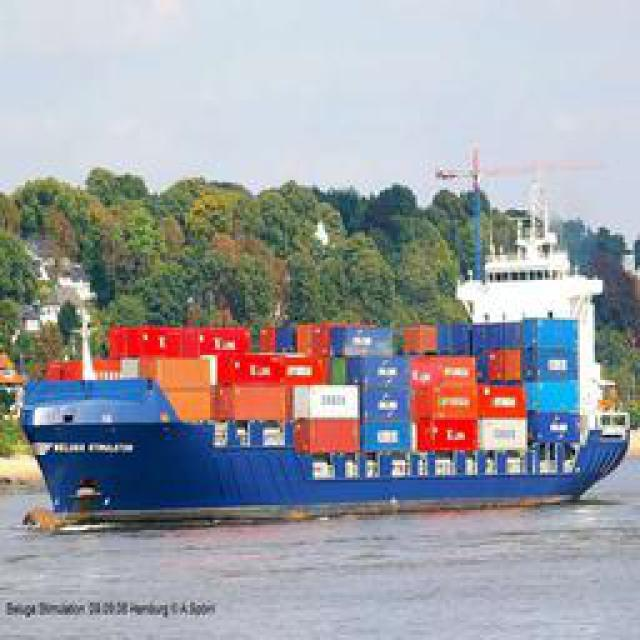Ship: (7, 309, 635, 512)
